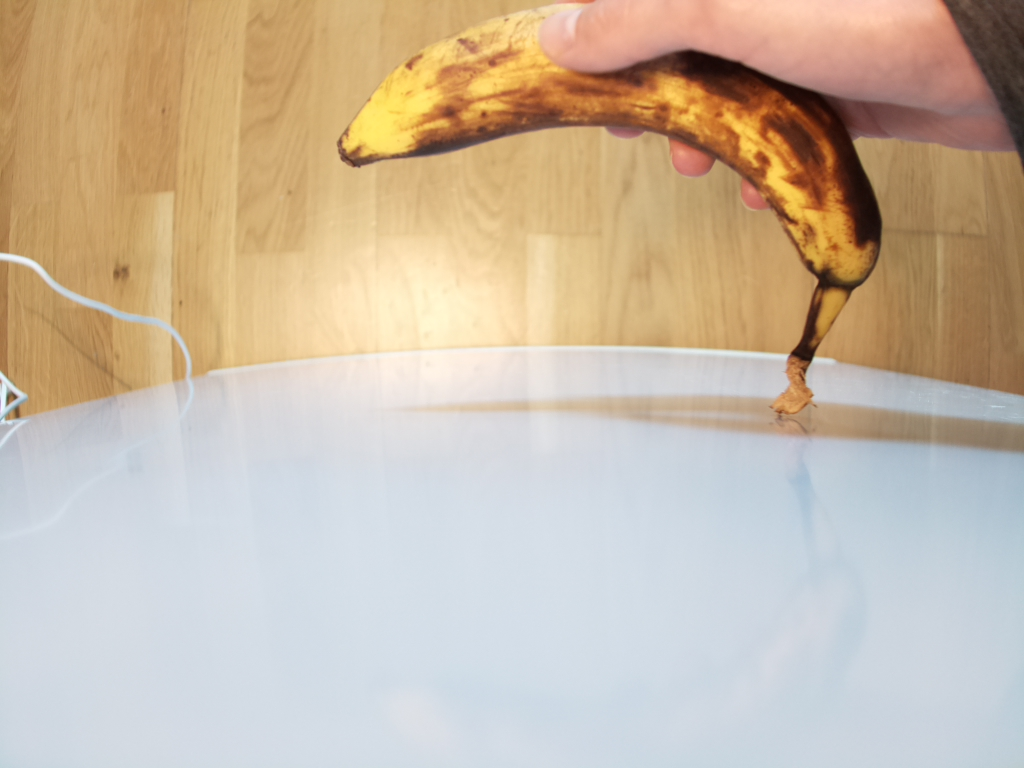banana-overripe: (338, 5, 884, 433)
